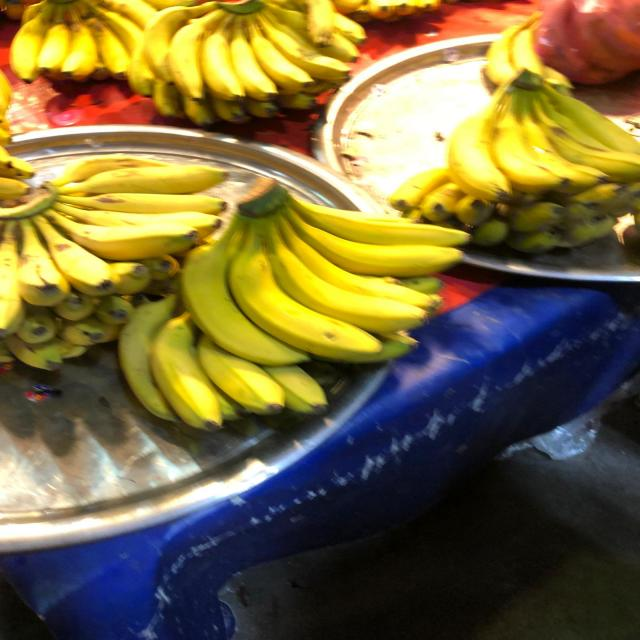banana: (159, 167, 481, 366)
